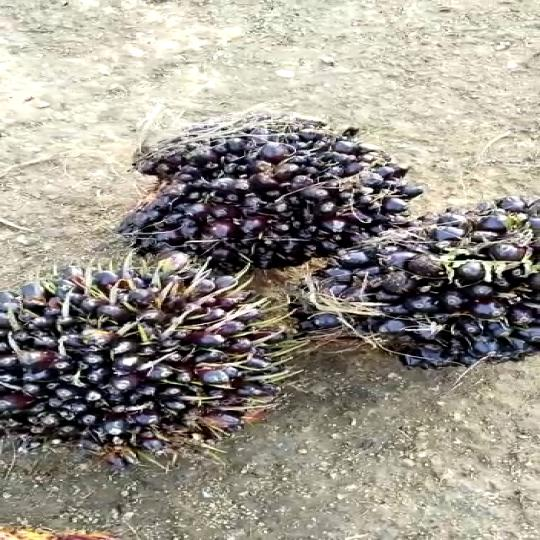mentah: (0, 239, 293, 477), (303, 206, 540, 421), (109, 107, 389, 284)
